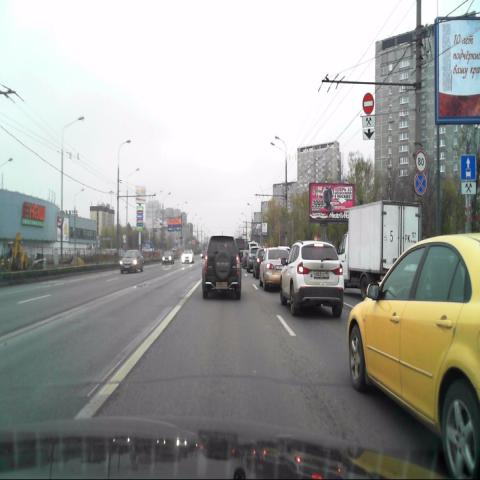3_1: (362, 93, 374, 113)
5_14: (461, 157, 476, 180)
